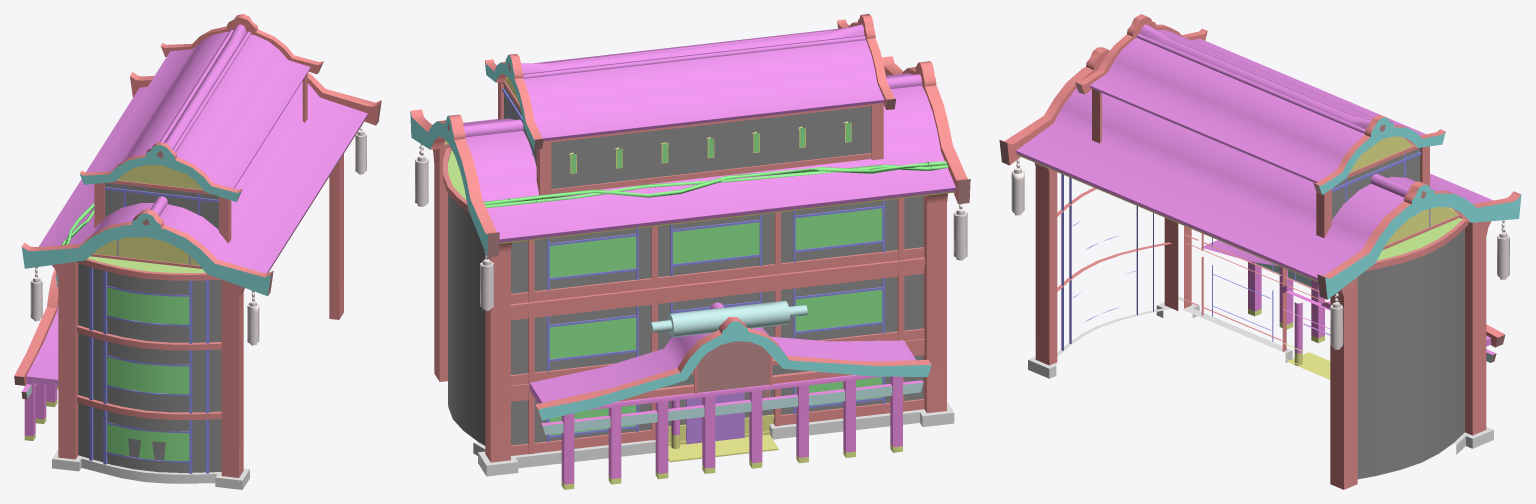
File: SM_ENV_LKNVLD_VRArena_Structure_B_Lod2.gltf
3 views of the same model, side by side, from view 1: azimuth 30°, elevation 25°; view 2: azimuth 150°, elevation 25°; view 3: azimuth 270°, elevation 25° (orthographic). The views are drawn at different scales.
Visible parts, largest first — view 1: SM_ENV_LKNVLD_VRArena_Structure_B_Lod2; view 2: SM_ENV_LKNVLD_VRArena_Structure_B_Lod2; view 3: SM_ENV_LKNVLD_VRArena_Structure_B_Lod2.
Part boxes in pixels (x1,y1,x2,y2): SM_ENV_LKNVLD_VRArena_Structure_B_Lod2: [14, 14, 381, 489]; SM_ENV_LKNVLD_VRArena_Structure_B_Lod2: [410, 14, 970, 489]; SM_ENV_LKNVLD_VRArena_Structure_B_Lod2: [999, 14, 1521, 489].
Bounding box in the file's own units: 37.86 × 27.12 × 37.86.
